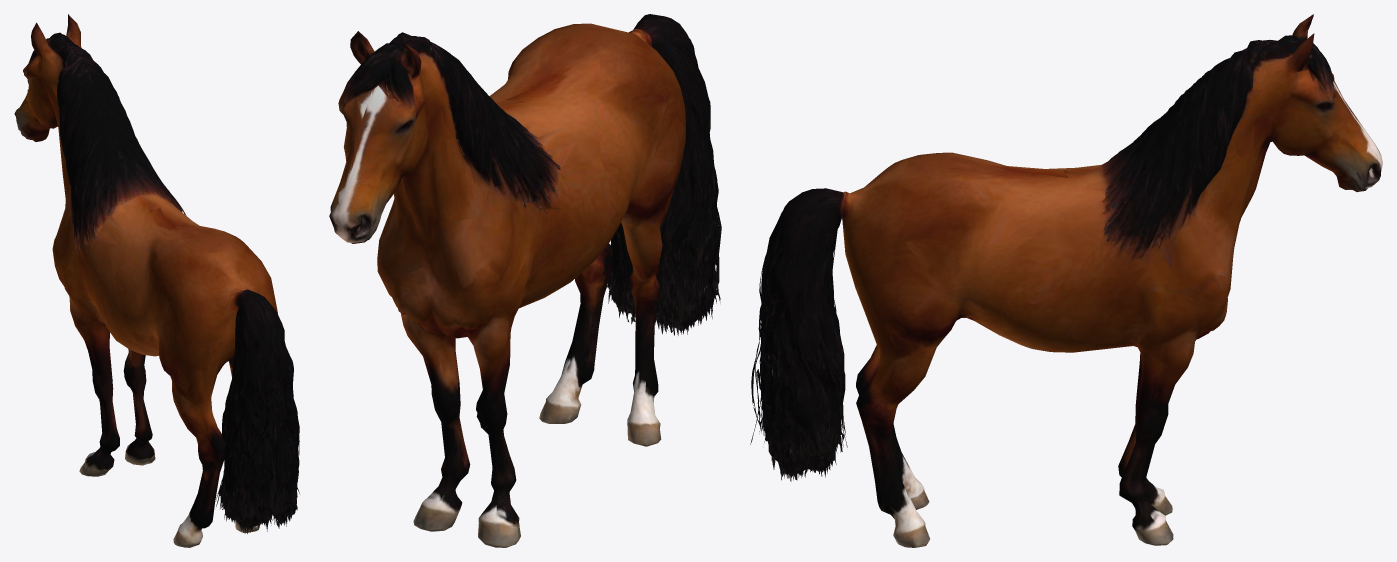
File: cavallo_castagno.gltf
The picture shows the model from 3 angles, left to right: view 1: azimuth 30°, elevation 25°; view 2: azimuth 150°, elevation 25°; view 3: azimuth 270°, elevation 25°; orthographic projection. The views are drawn at different scales.
Parts seen in each view (by area): view 1: animal; view 2: animal; view 3: animal.
Boxes of the visible parts, bbox=[...] form: animal: bbox=[14, 14, 299, 547]; animal: bbox=[329, 14, 721, 547]; animal: bbox=[750, 14, 1382, 547].
Size of the model in its own units: 0.4794 by 1.62 by 1.85.
1 material, 1 textured.
